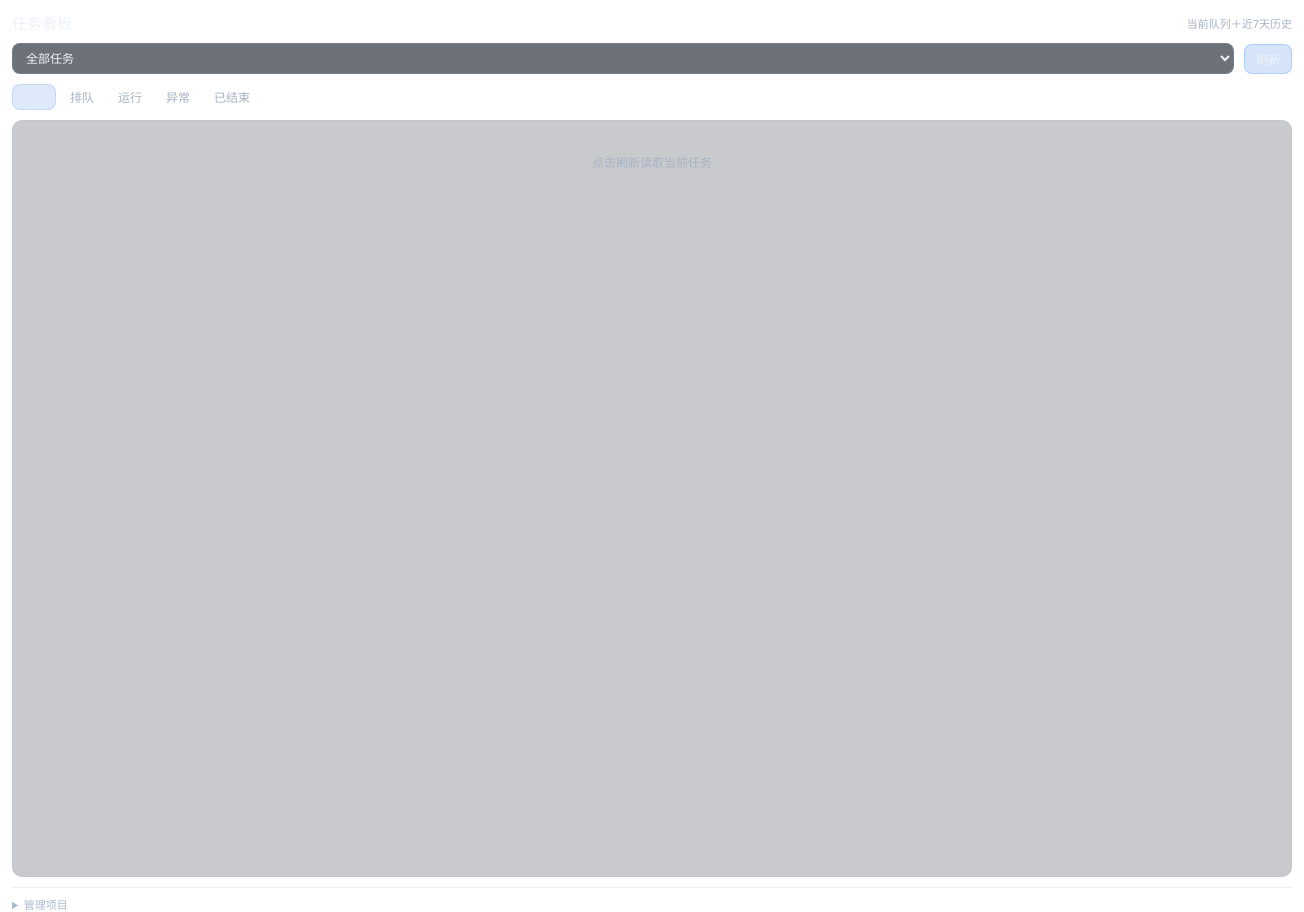
Test case: HPC task board › scopes saved projects to the host, clears switched rows, and filters exact registered IDs
The width and height of the screenshot is (1304, 912).
Click the button "刷新".
click(1268, 58)  # box [1244,44,1292,74]
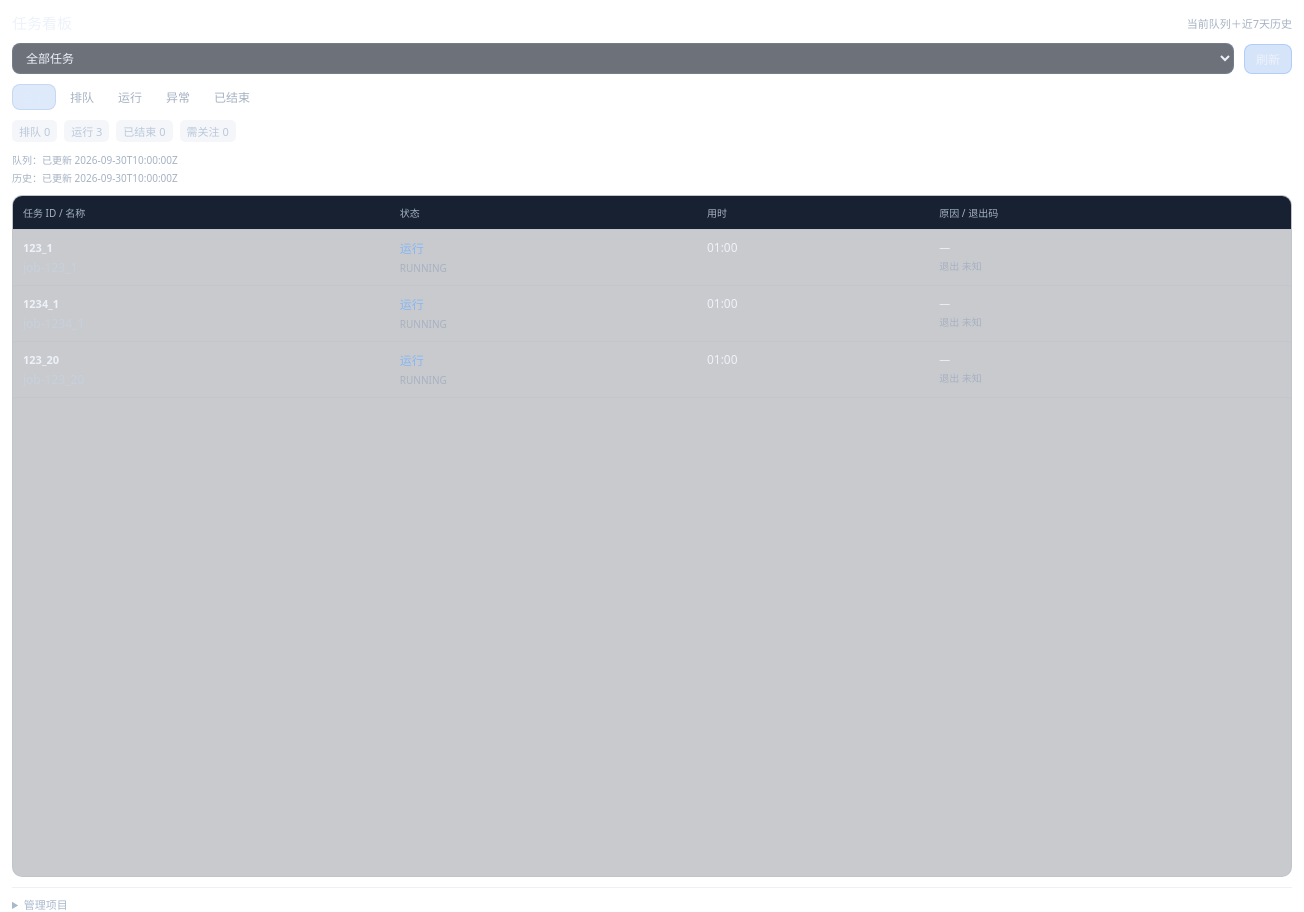
Select "项目甲" in the dropdown named "项目" at {"x": 623, "y": 58}, box [12,43,1234,74]
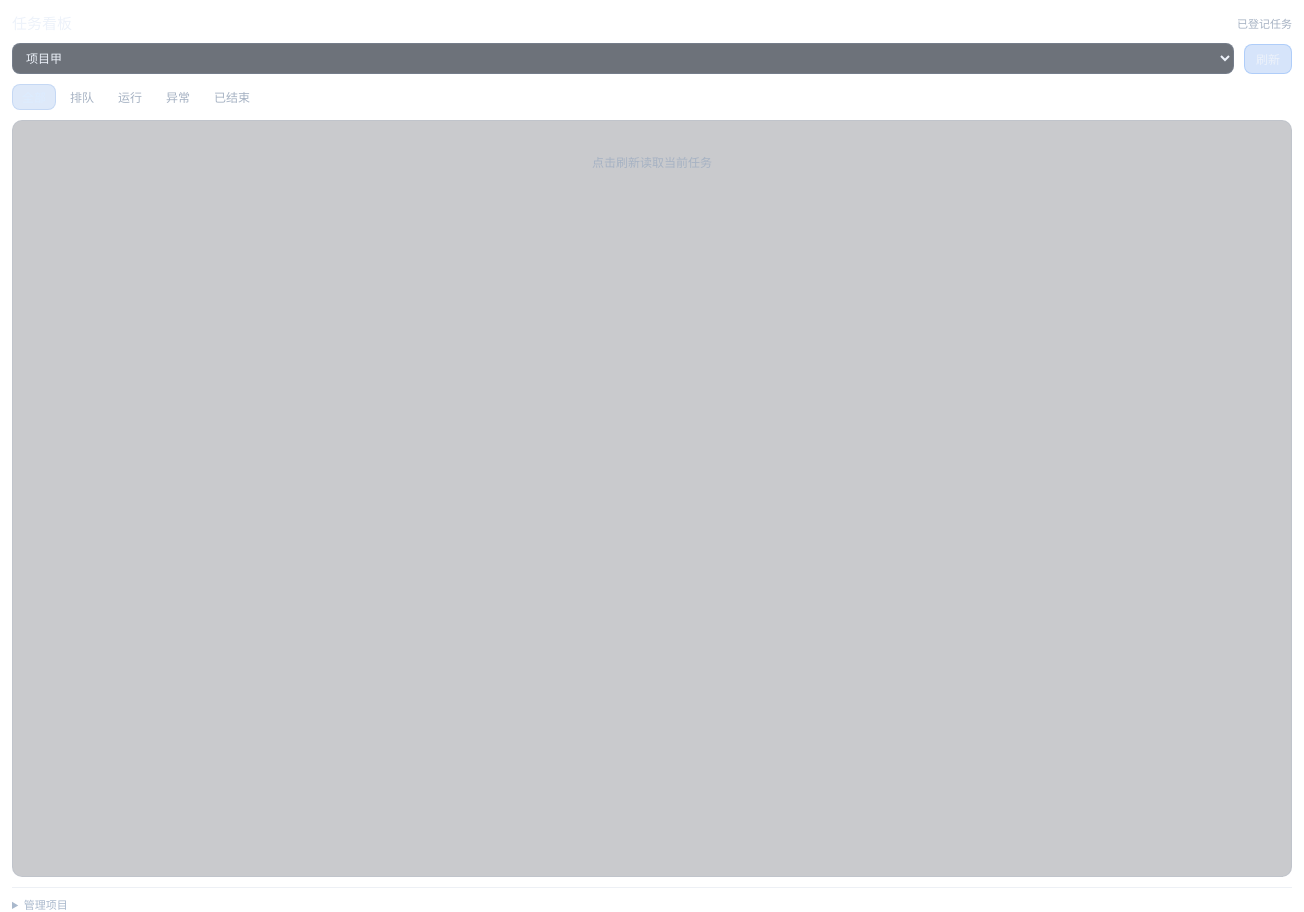
Check: the text "job-1234_1" is not shown
Click the button "刷新".
click(1268, 58)  # box [1244,44,1292,74]
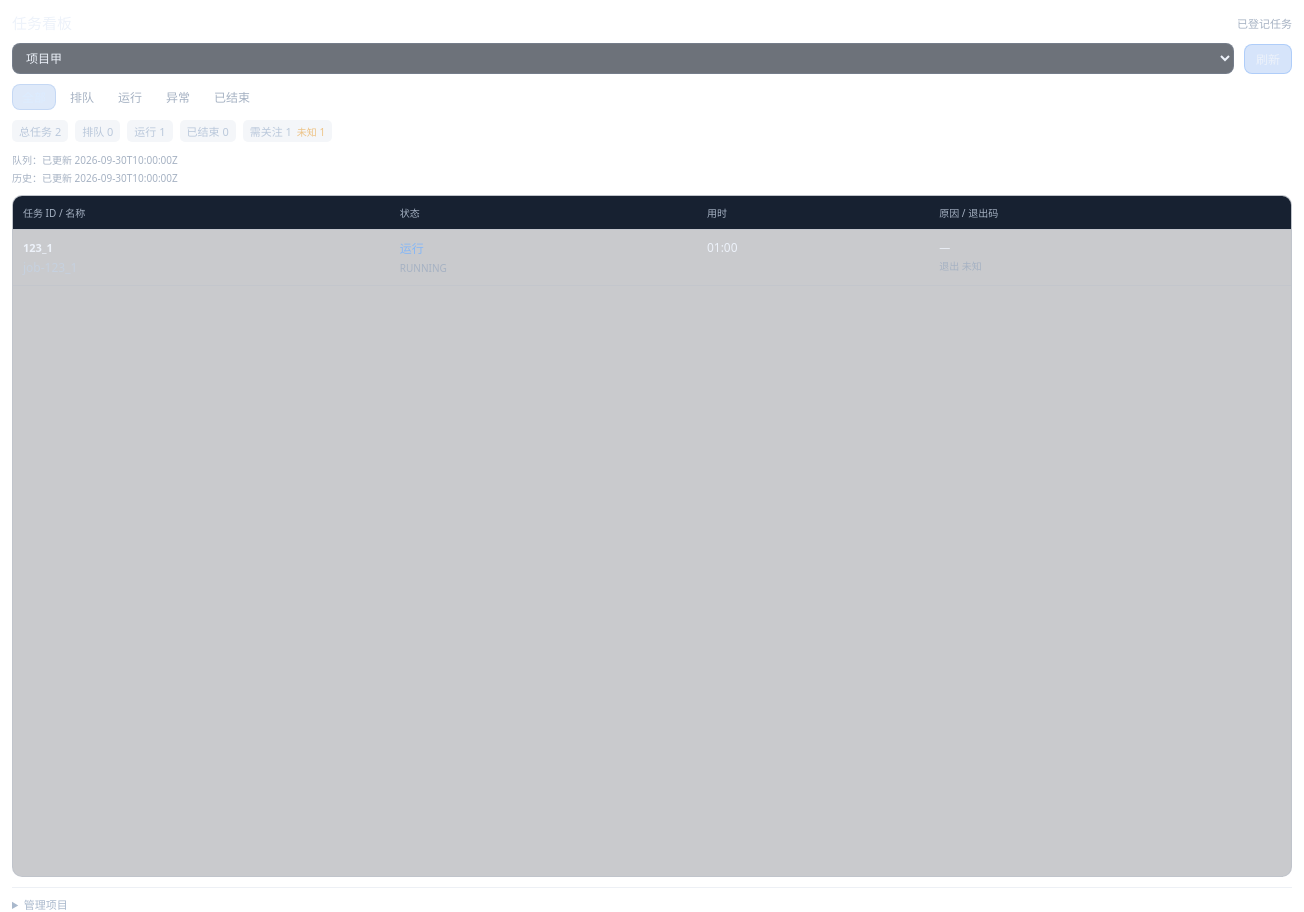
Check: the text "job-123_20" is not shown
Check: the text "未知 1" is shown, box [297,125,325,139]
Check: the text "总任务 2" is shown, box [12,120,68,142]
